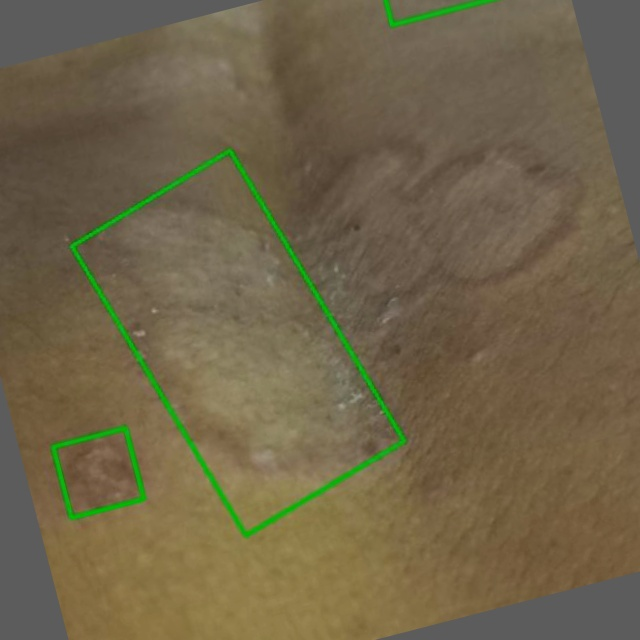Tinea Corporis: (71, 150, 403, 535), (53, 428, 144, 518)
